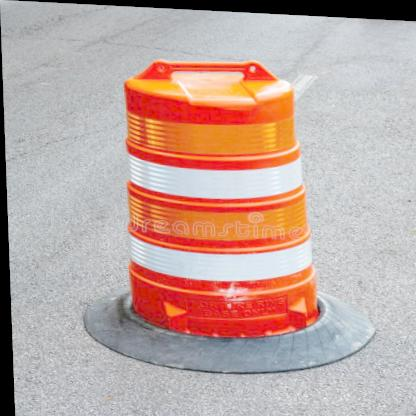obstacle: (105, 55, 329, 340)
